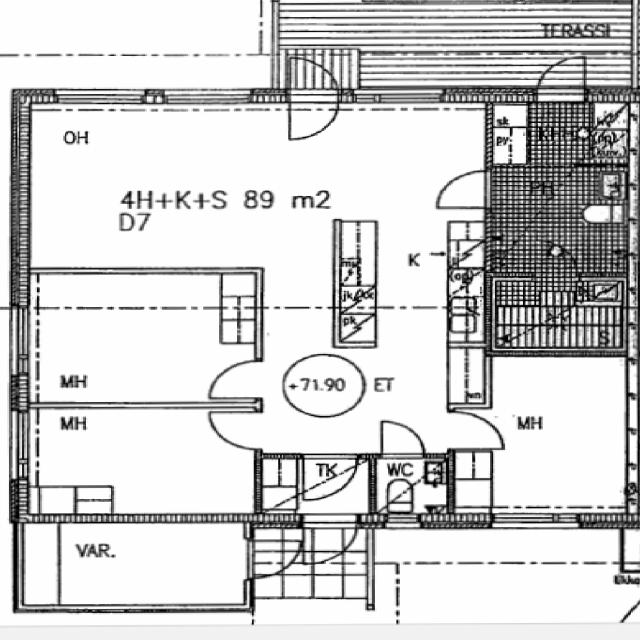door: (304, 515, 357, 571), (290, 89, 339, 141), (290, 52, 339, 102), (304, 454, 357, 500), (539, 54, 586, 102), (245, 542, 302, 580), (206, 412, 262, 450), (206, 362, 262, 399), (450, 412, 504, 450), (438, 172, 492, 208), (536, 241, 578, 281), (383, 423, 424, 459)
